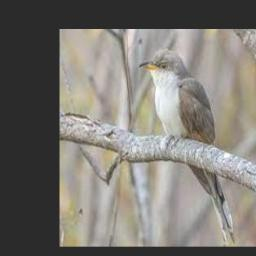Cuckoo: (138, 48, 237, 244)
